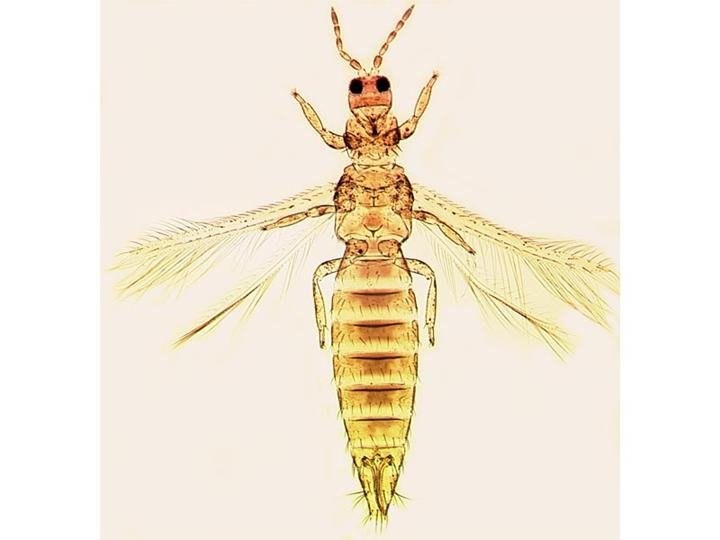Thrips: (111, 9, 609, 532)
